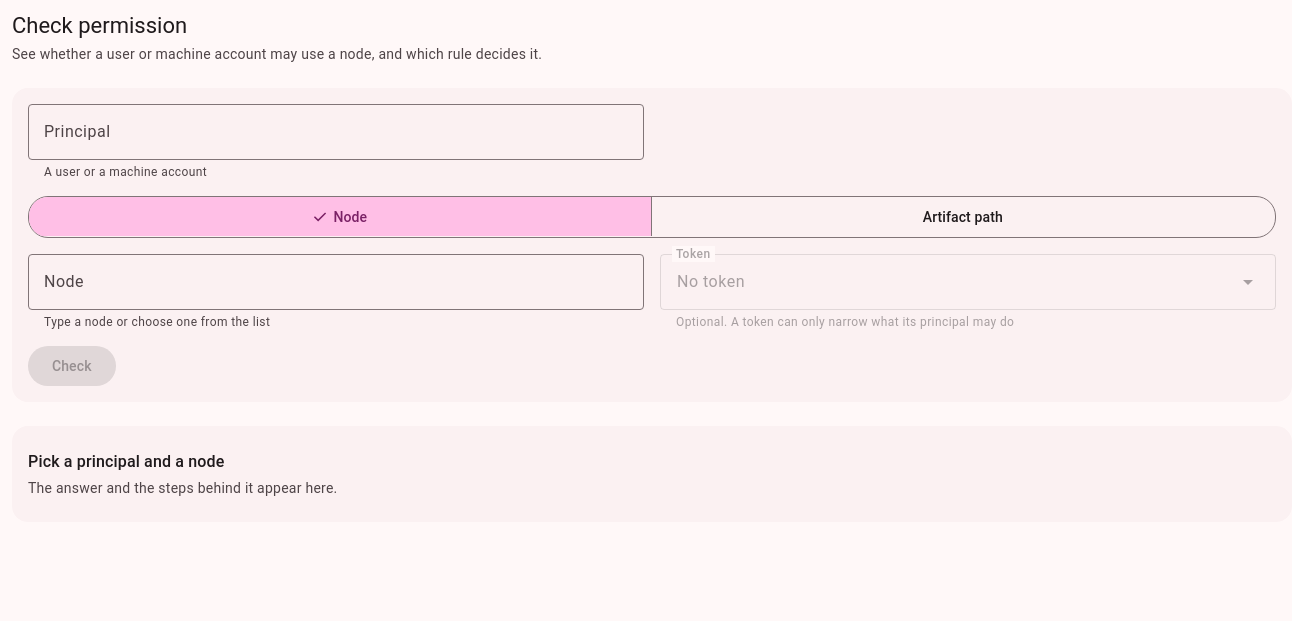
Test: CheckPermissionView › an artifact path › shows the server refusal of a path on the path field
Type "alice" into the dropdown labelled "Principal".
click(336, 132); type("alice")  # box [28,104,644,160]
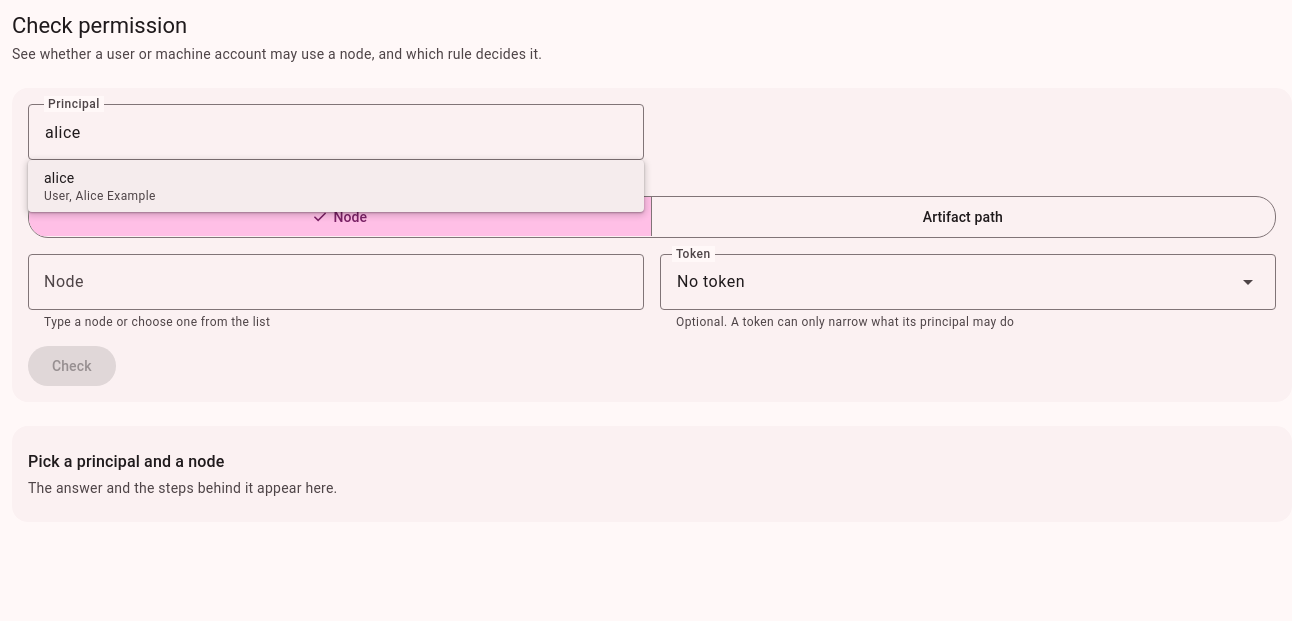
Click the radio button with test id "mode-path".
click(962, 216)  # box [650,196,1274,236]
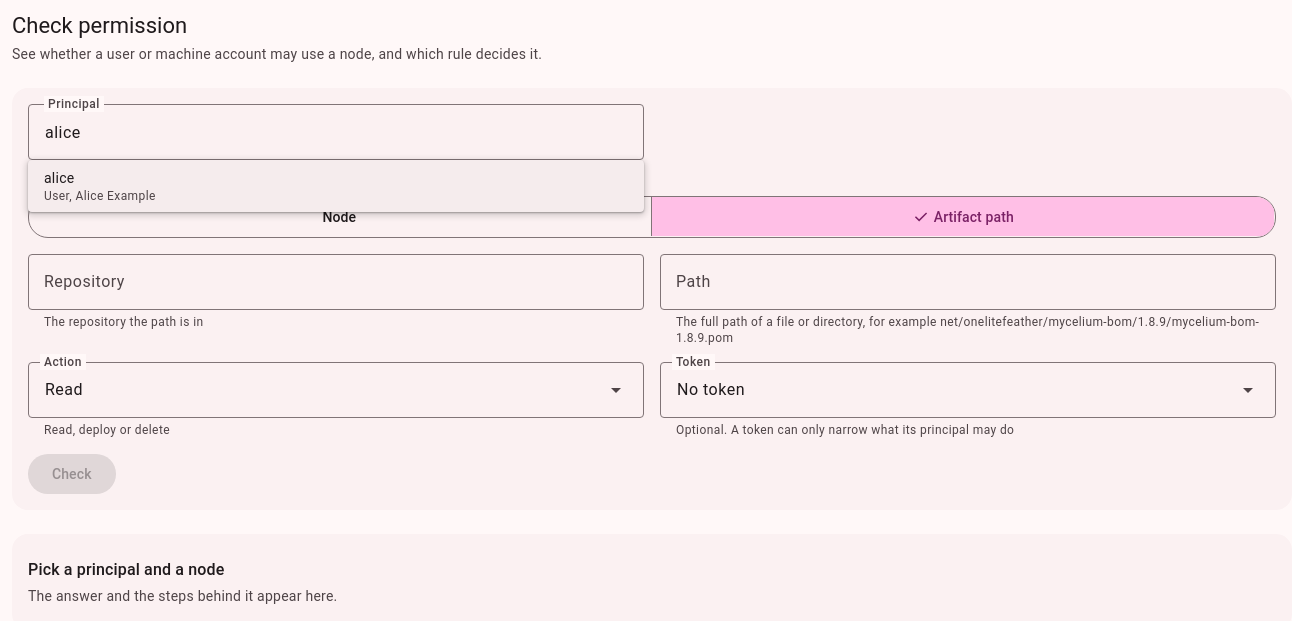
Type "releases" into the field labelled "Repository".
click(336, 282); type("releases")  # box [28,254,644,310]
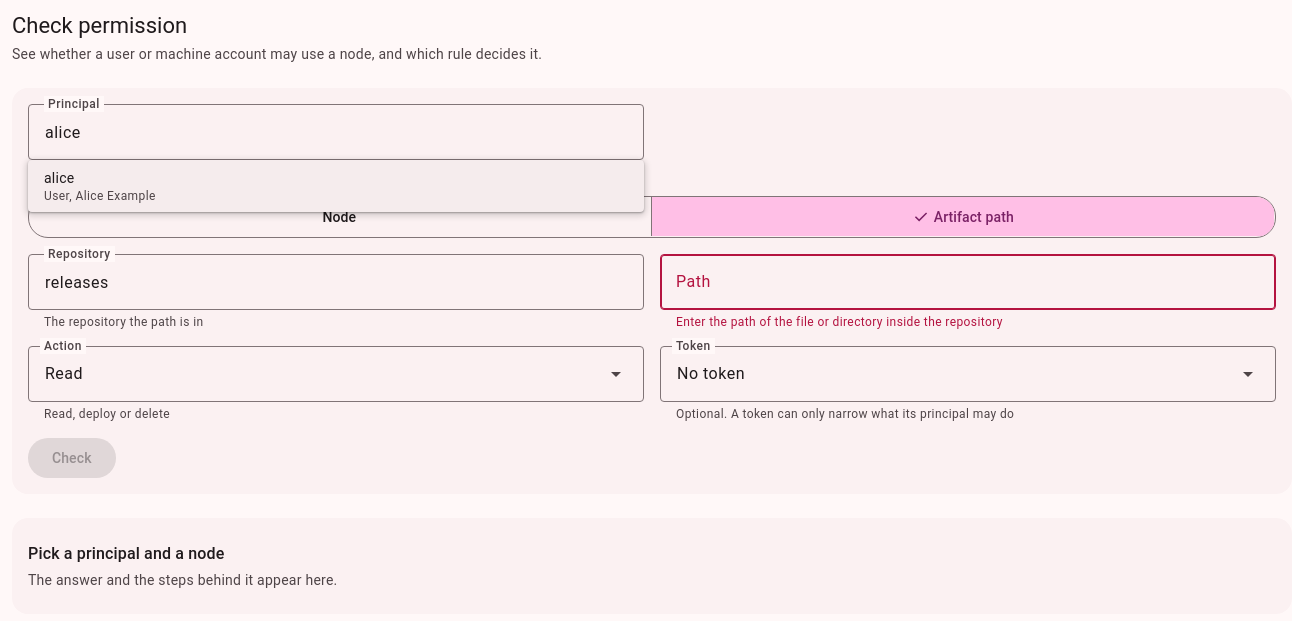
Type "net/onelitefeather/mycelium-bom/1.8.9/mycelium-bom-1.8.9.pom" into the field labelled "Path".
click(968, 282); type("net/onelitefeather/mycelium-bom/1.8.9/mycelium-bom-1.8.9.pom")  # box [660,254,1276,310]
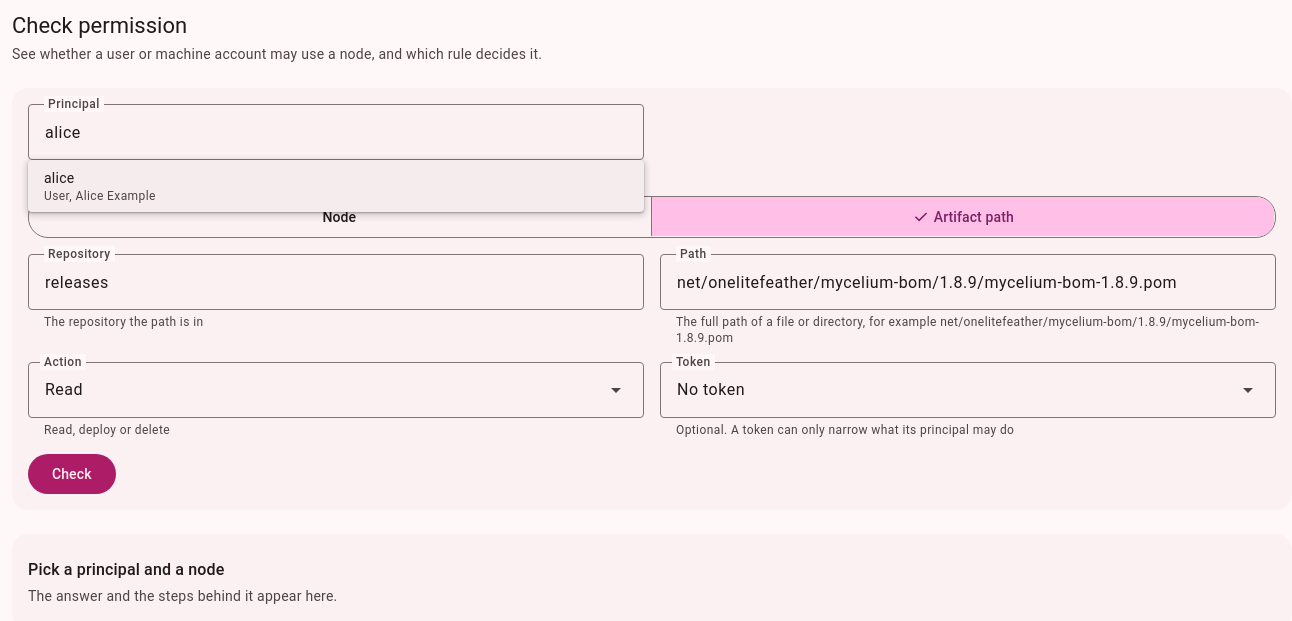
Submit the form with test id "check-form"
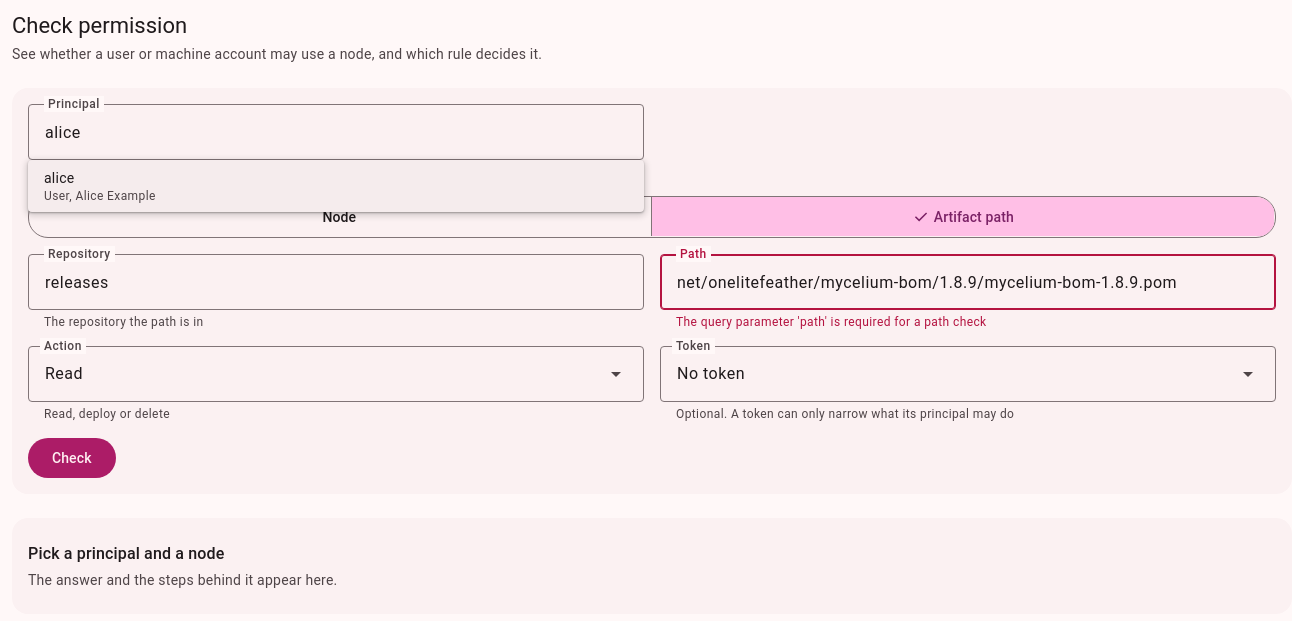
Expected: the element with test id "artifact-path" shows "The query parameter 'path' is required for a path check", [676,315,987,329]
